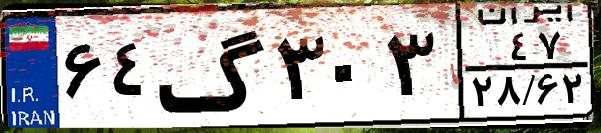0: (330, 28, 385, 110)
2: (560, 70, 590, 125), (470, 70, 495, 125)
3: (270, 28, 330, 110), (385, 28, 445, 110)
4: (110, 28, 156, 98), (508, 27, 537, 80)
6: (57, 26, 110, 100), (535, 70, 560, 125)
7: (537, 27, 568, 80)
8: (495, 70, 520, 125)
گ: (156, 12, 270, 120)
